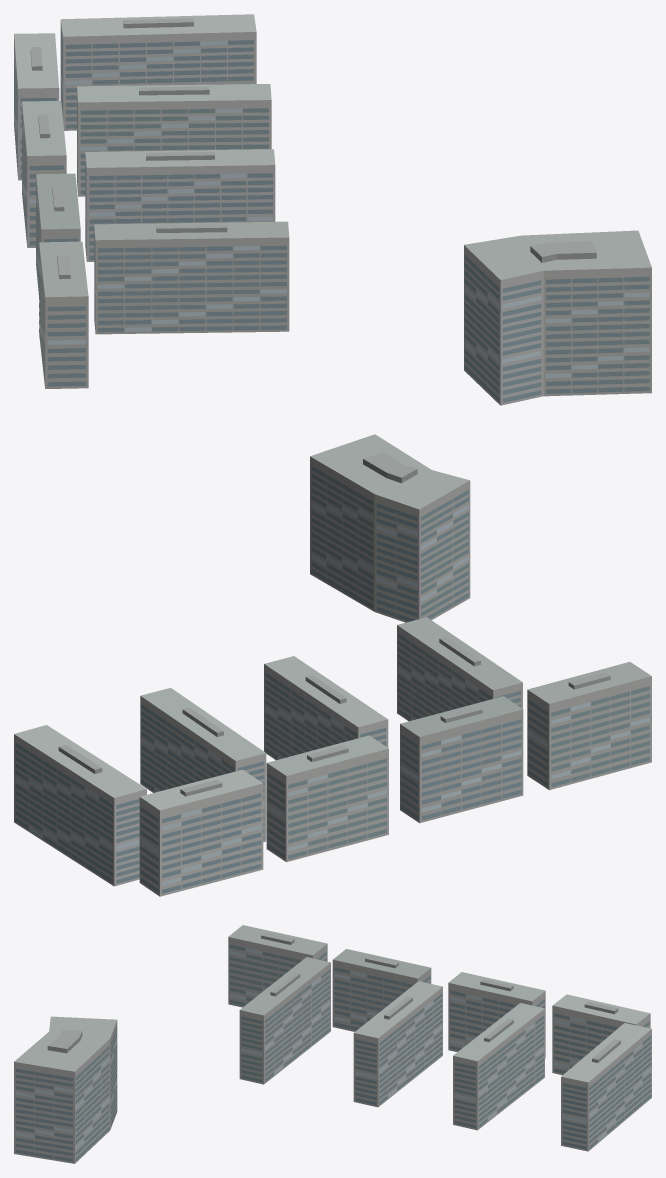
Rendered from apt-a15703303.glb.
The picture shows the model from 3 angles, top to bottom: view 1: azimuth 30°, elevation 25°; view 2: azimuth 150°, elevation 25°; view 3: azimuth 270°, elevation 25°; orthographic projection. The views are drawn at different scales.
Parts seen in each view (by area): view 1: apt-a15703303; view 2: apt-a15703303; view 3: apt-a15703303.
Part boxes in pixels (x1=…): apt-a15703303: x1=14, y1=14, x2=651, y2=405; apt-a15703303: x1=14, y1=434, x2=651, y2=896; apt-a15703303: x1=14, y1=925, x2=651, y2=1163.
Bounding box in the file's own units: 183 × 48 × 288.
